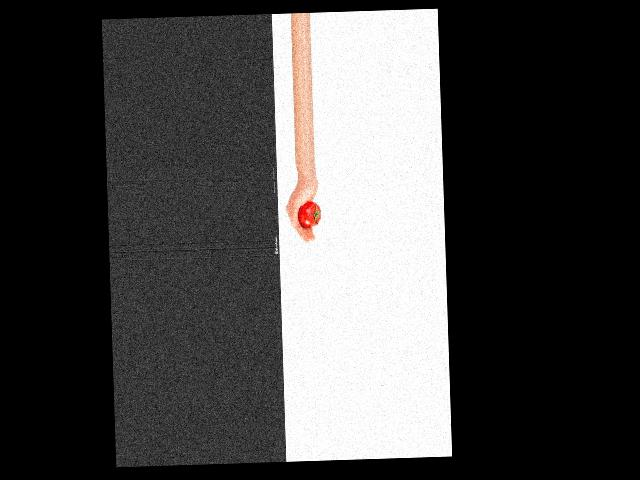tomato: (297, 200, 320, 226)
